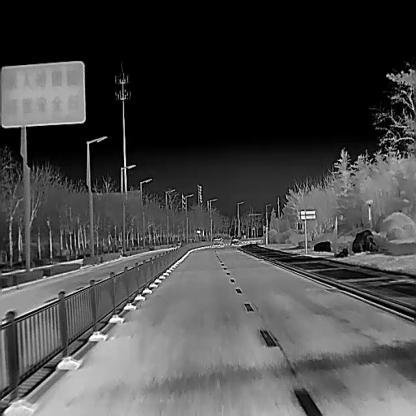car: (211, 236, 223, 247), (230, 236, 241, 246)
